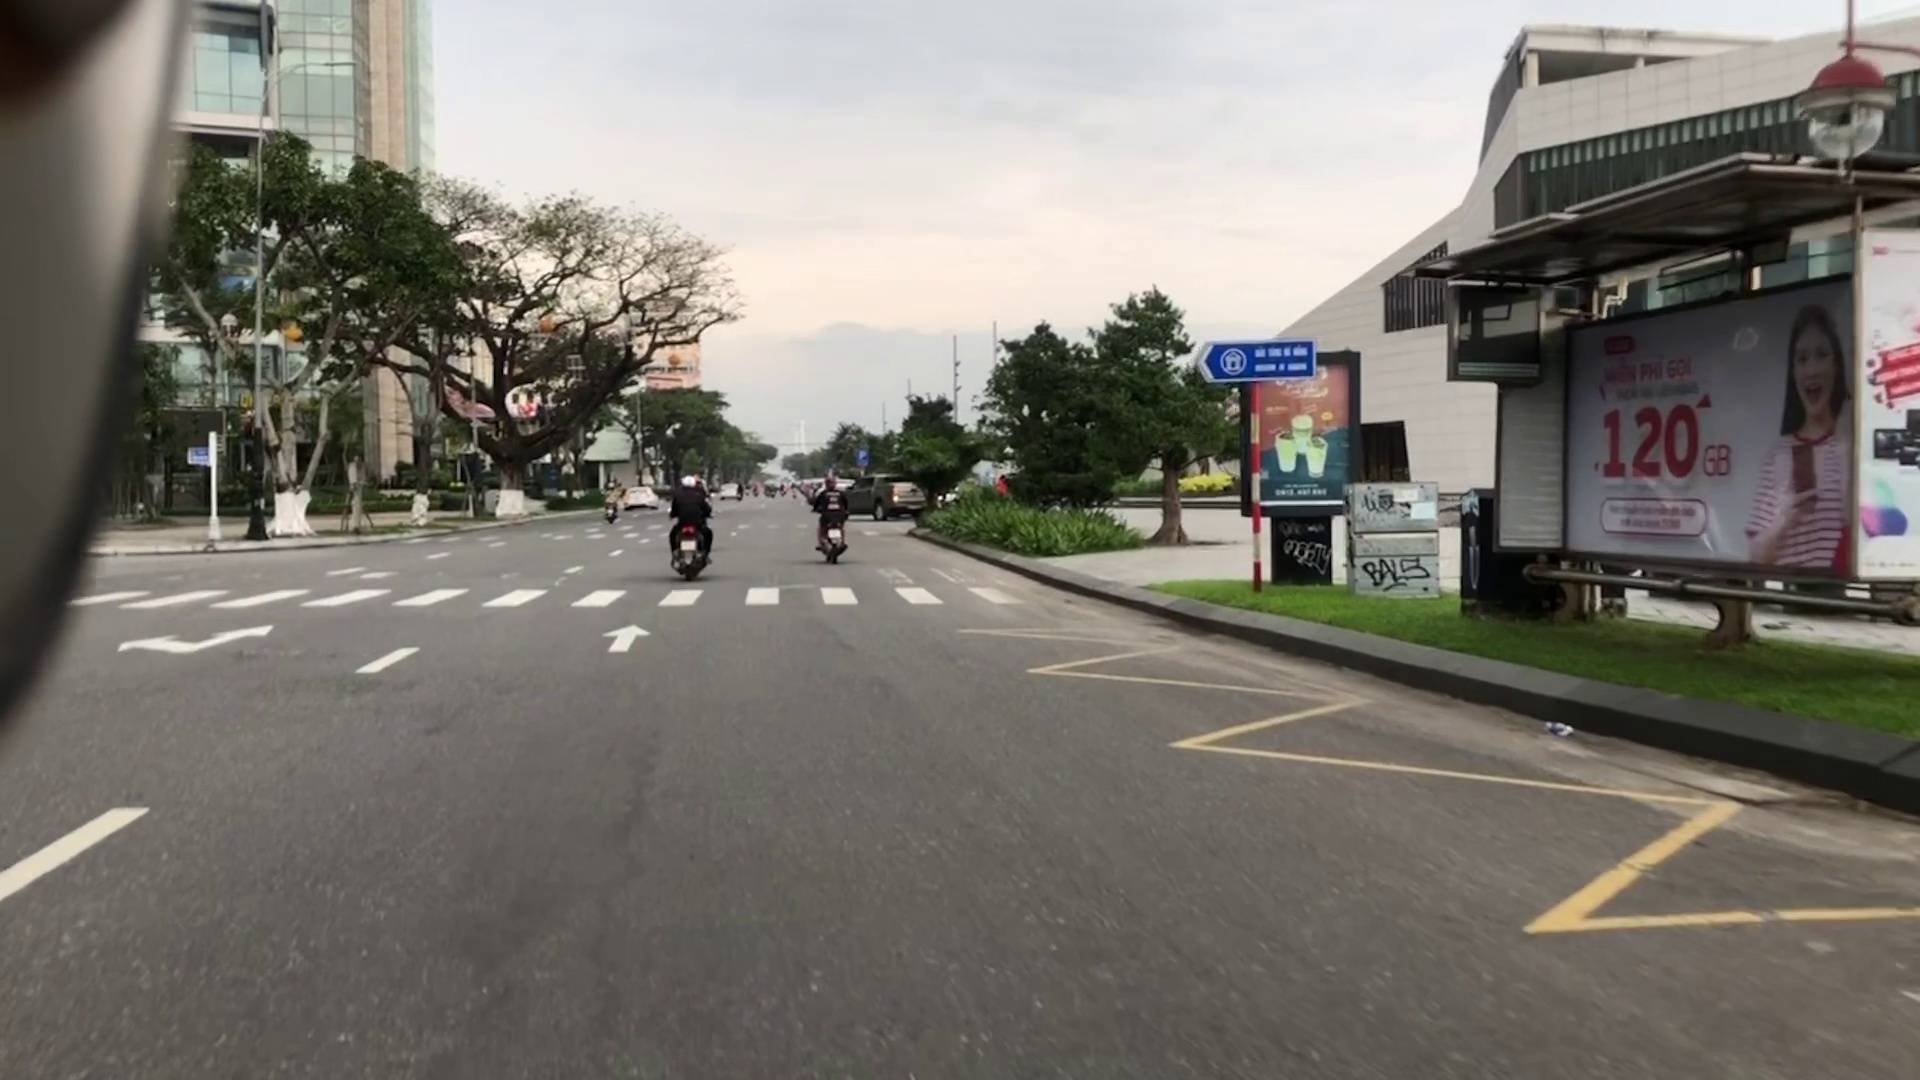Bien khac: (852, 444, 870, 465)
